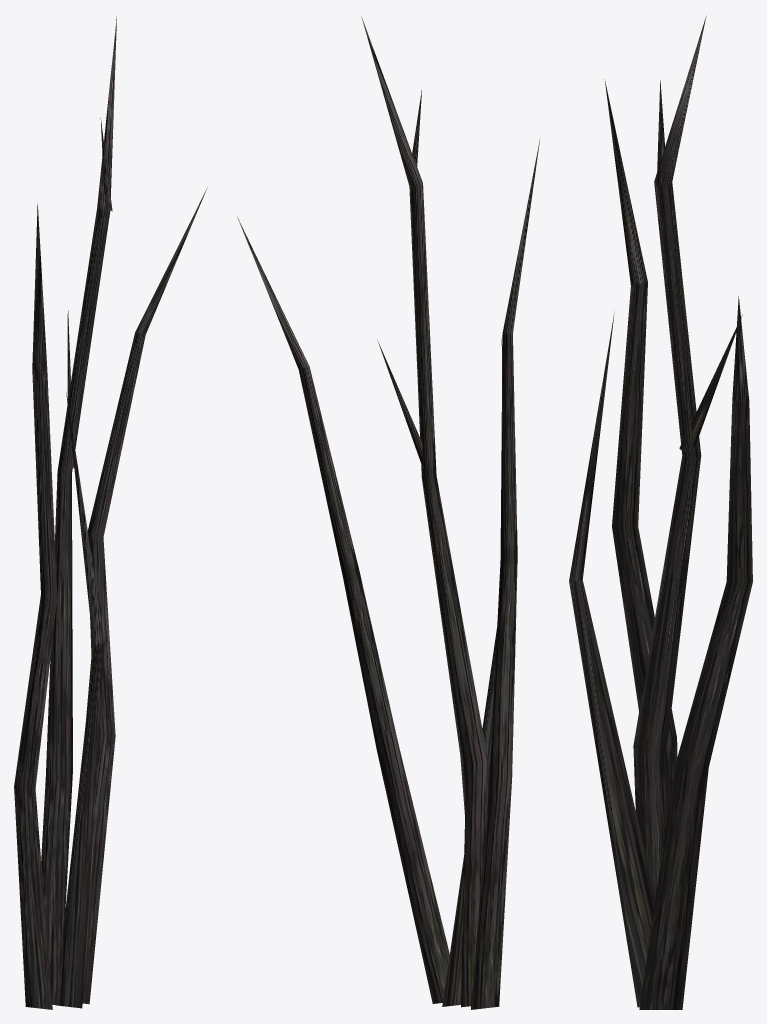
3 renders of one model, left to right at view 1: azimuth 30°, elevation 25°; view 2: azimuth 150°, elevation 25°; view 3: azimuth 270°, elevation 25°, orthographic. The views are drawn at different scales.
Parts seen in each view (by area): view 1: Tree05; view 2: Tree05; view 3: Tree05.
Part boxes in pixels (x1,y1,x2,y2): Tree05: (14,16,206,1009); Tree05: (237,16,540,1009); Tree05: (569,15,752,1009).
Bounding box in the file's own units: 90.53 × 355 × 57.57.
